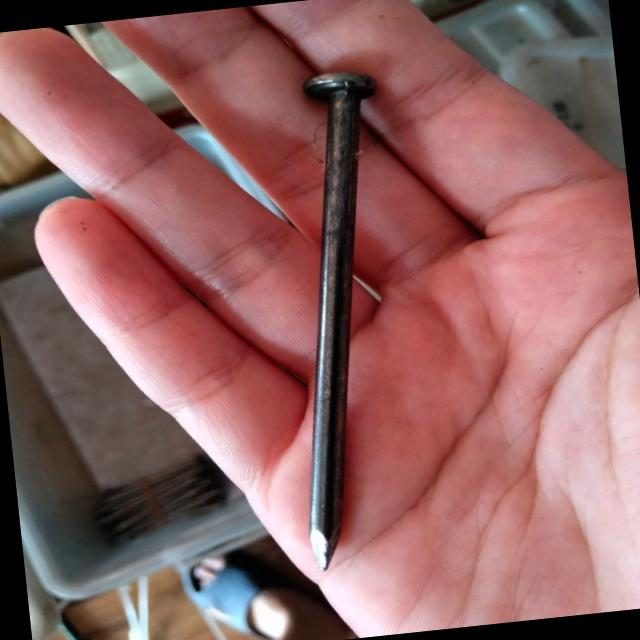3x8 nail: (206, 47, 454, 594)
